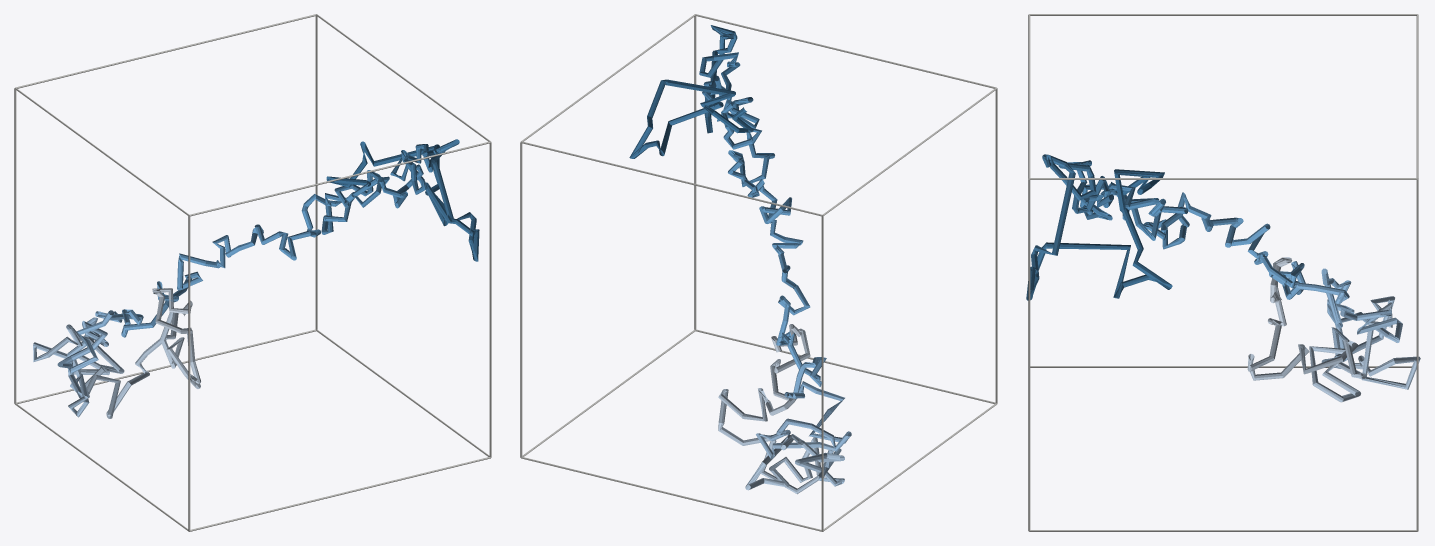
3 views of the same model, side by side, from view 1: azimuth 30°, elevation 25°; view 2: azimuth 150°, elevation 25°; view 3: azimuth 270°, elevation 25° (orthographic). The views are drawn at different scales.
Visible parts, largest first — view 1: geometry_0, geometry_1; view 2: geometry_0, geometry_1; view 3: geometry_0, geometry_1.
Part boxes in pixels (x1,y1,x2,y2): geometry_0: (33, 139, 479, 418); geometry_1: (14, 14, 491, 531); geometry_0: (629, 25, 851, 494); geometry_1: (520, 14, 997, 531); geometry_0: (1026, 154, 1420, 402); geometry_1: (1028, 14, 1418, 531).
Bounding box in the file's own units: 0.3042 × 0.3047 × 0.3048.
